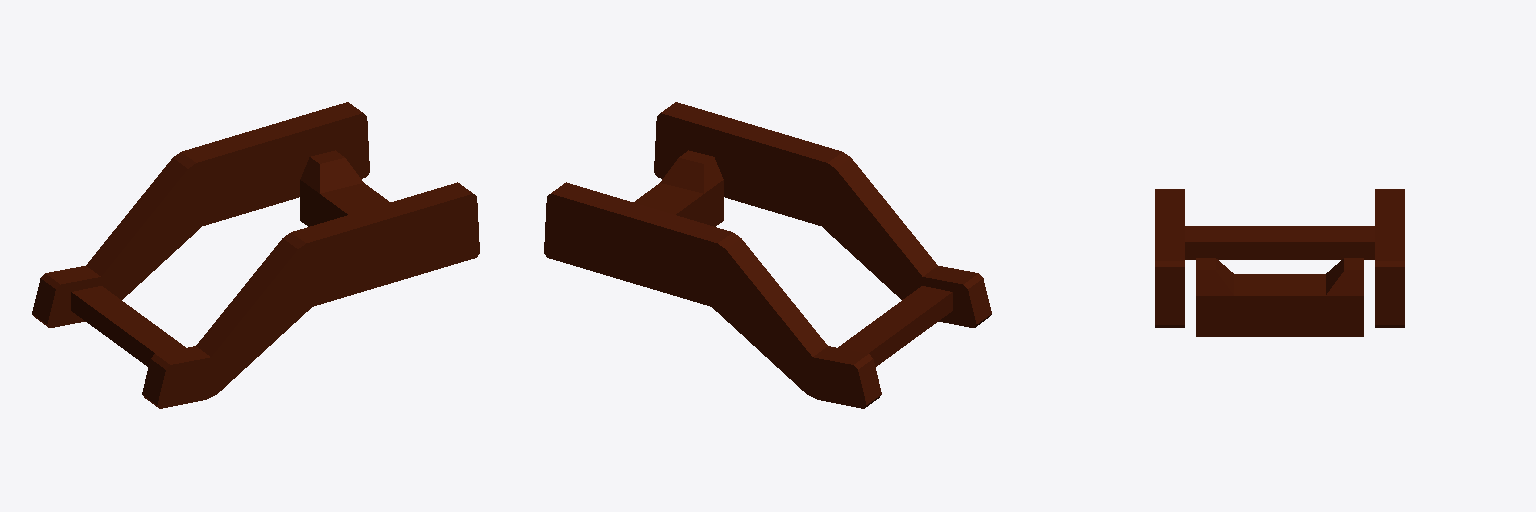
The model's file is Cannon_trolley.obj.
3 renders of one model, left to right at view 1: azimuth 30°, elevation 25°; view 2: azimuth 150°, elevation 25°; view 3: azimuth 270°, elevation 25°, orthographic.
Visible parts, largest first — view 1: Cannon_trolley; view 2: Cannon_trolley; view 3: Cannon_trolley.
Part boxes in pixels (x1,y1,x2,y2): Cannon_trolley: (32, 102, 479, 408); Cannon_trolley: (544, 102, 991, 408); Cannon_trolley: (1155, 189, 1404, 336).
Bounding box in the file's own units: 3.86 × 1.61 × 2.6.